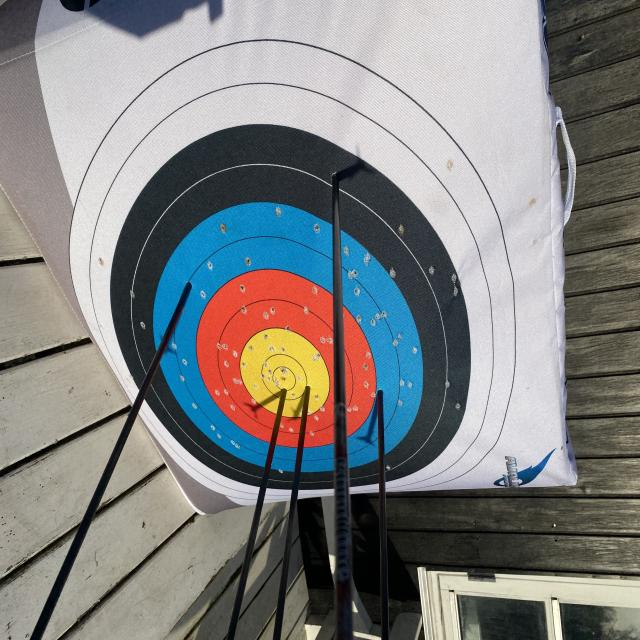Arrow_Black: (322, 158, 357, 208)
Arrow_Blue: (172, 256, 207, 312), (372, 380, 398, 422)
Arrow_Yellow: (275, 376, 294, 412), (297, 376, 317, 410)
